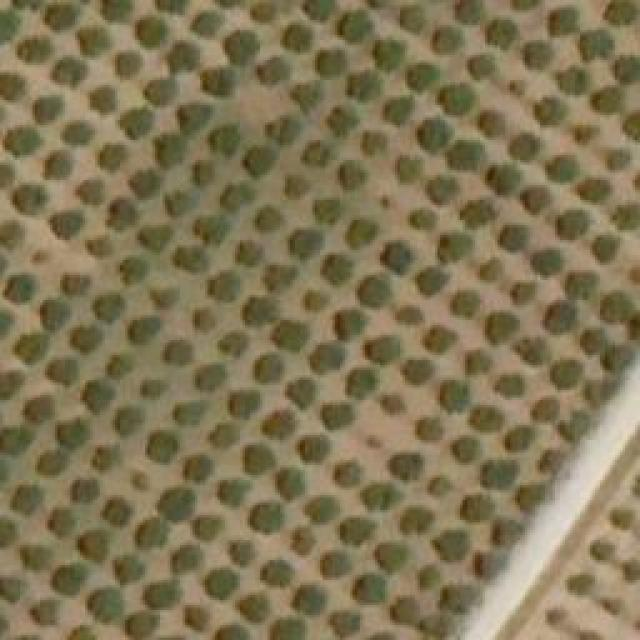Tree: (180, 105, 213, 138), (160, 488, 195, 518), (200, 68, 235, 98), (15, 333, 48, 363), (228, 30, 258, 63), (105, 200, 138, 228), (120, 110, 153, 138), (420, 118, 448, 151), (90, 590, 120, 620), (85, 380, 115, 410), (440, 235, 475, 260), (55, 563, 83, 593), (15, 485, 45, 513), (220, 480, 250, 508), (305, 495, 335, 523), (295, 585, 325, 613), (560, 410, 590, 438), (547, 303, 575, 333), (195, 215, 225, 243), (15, 185, 45, 213), (48, 0, 78, 28), (137, 15, 165, 45), (168, 42, 198, 70), (440, 82, 470, 110), (580, 30, 610, 58), (58, 420, 91, 445), (483, 460, 516, 485), (603, 295, 636, 320), (450, 143, 483, 168), (175, 245, 208, 270), (140, 225, 173, 250), (348, 73, 381, 98), (150, 432, 178, 460), (115, 405, 143, 433), (165, 337, 193, 365), (277, 320, 305, 348), (255, 502, 283, 530), (377, 542, 405, 570), (492, 162, 520, 190), (212, 272, 240, 300), (247, 147, 275, 175), (342, 12, 370, 40), (537, 97, 565, 125), (525, 40, 553, 68), (302, 288, 329, 317), (440, 588, 478, 608), (343, 518, 376, 541), (303, 140, 336, 163), (50, 213, 83, 236), (20, 38, 53, 61), (55, 58, 88, 81), (63, 120, 96, 143), (140, 520, 170, 545), (43, 300, 68, 330), (73, 325, 103, 350), (130, 318, 160, 343), (245, 298, 275, 323), (355, 575, 385, 600), (463, 495, 493, 520), (403, 508, 433, 533), (473, 405, 503, 430), (78, 28, 108, 53), (33, 98, 63, 123), (396, 303, 423, 330), (147, 583, 175, 608), (207, 570, 235, 595), (115, 558, 143, 583), (80, 532, 105, 560), (97, 293, 125, 318), (245, 445, 273, 470), (312, 345, 340, 370), (365, 485, 400, 505), (440, 532, 465, 560), (347, 368, 375, 393), (587, 378, 615, 403), (427, 328, 455, 353), (490, 315, 515, 343), (557, 213, 585, 238), (465, 200, 493, 225), (295, 233, 323, 258), (340, 160, 365, 188), (263, 268, 298, 288), (225, 183, 253, 208), (133, 170, 158, 198), (158, 137, 183, 165), (147, 78, 175, 103), (285, 25, 313, 50), (377, 43, 405, 68), (487, 20, 515, 45), (560, 68, 588, 93), (393, 453, 423, 476), (10, 128, 40, 151), (190, 13, 220, 36), (605, 0, 635, 22), (2, 428, 30, 451), (53, 507, 76, 535), (175, 400, 203, 423), (50, 360, 78, 383), (7, 275, 35, 298), (290, 380, 313, 408), (265, 413, 293, 436), (300, 438, 328, 461), (322, 553, 350, 576), (495, 520, 523, 543), (370, 338, 398, 361), (445, 380, 468, 408), (607, 348, 635, 371), (520, 340, 548, 363), (535, 250, 563, 273), (385, 242, 408, 270), (510, 135, 538, 158), (315, 198, 343, 221), (270, 120, 298, 143), (385, 98, 413, 121), (435, 28, 463, 51), (550, 10, 578, 33), (555, 360, 580, 385), (570, 270, 595, 295), (350, 220, 375, 245), (325, 255, 350, 280), (213, 128, 238, 153), (410, 63, 435, 88), (330, 108, 355, 133), (400, 5, 425, 30), (480, 110, 505, 135), (595, 88, 620, 113), (423, 615, 453, 635), (130, 613, 155, 636), (173, 548, 198, 571), (0, 578, 25, 601), (73, 478, 98, 501), (188, 455, 211, 480), (233, 393, 258, 416), (258, 355, 281, 380), (200, 365, 225, 388), (325, 405, 350, 428), (333, 610, 358, 633), (360, 280, 385, 303), (503, 225, 528, 248), (525, 188, 548, 213), (615, 208, 640, 231), (430, 178, 455, 201), (398, 155, 421, 180), (258, 208, 283, 231), (235, 240, 260, 263), (78, 180, 103, 203), (263, 58, 288, 81), (295, 83, 318, 108), (568, 570, 593, 593), (22, 548, 50, 568), (547, 158, 575, 178), (167, 193, 195, 213), (102, 0, 130, 20), (0, 10, 18, 40), (243, 595, 266, 618), (268, 560, 291, 583), (95, 445, 118, 468), (123, 258, 146, 281), (223, 335, 246, 358), (455, 438, 478, 461), (583, 330, 606, 353), (595, 235, 618, 258), (583, 178, 606, 201), (118, 53, 141, 76), (320, 53, 343, 76), (363, 133, 386, 156), (617, 57, 640, 80), (0, 372, 22, 395), (0, 74, 22, 97), (40, 452, 68, 470), (150, 287, 178, 305), (250, 2, 278, 20), (595, 595, 623, 613), (275, 620, 300, 640), (108, 355, 133, 375), (213, 425, 238, 445), (280, 470, 300, 495), (295, 528, 315, 553), (395, 598, 415, 623), (518, 485, 543, 505), (508, 428, 533, 448), (0, 223, 20, 248), (308, 0, 333, 20), (590, 540, 615, 560), (185, 605, 205, 628), (230, 540, 250, 563), (28, 400, 51, 420), (108, 500, 128, 523), (338, 463, 361, 483), (478, 555, 501, 575), (543, 450, 566, 470), (408, 360, 428, 383), (418, 418, 441, 438), (498, 375, 521, 395), (468, 350, 488, 373), (455, 293, 478, 313), (423, 270, 443, 293), (45, 155, 68, 175), (93, 88, 113, 111), (470, 55, 493, 75), (458, 0, 481, 20), (610, 508, 633, 528), (215, 625, 245, 640), (65, 275, 90, 293), (88, 237, 113, 255), (0, 517, 15, 545), (625, 110, 640, 138), (288, 177, 311, 195), (35, 603, 55, 623), (200, 518, 220, 538), (70, 625, 95, 640), (380, 395, 400, 413), (535, 400, 555, 418), (342, 313, 360, 333), (518, 282, 538, 300), (483, 260, 503, 278), (195, 163, 213, 183), (102, 148, 120, 168), (545, 607, 565, 625), (413, 210, 436, 225), (420, 567, 438, 585), (622, 562, 640, 580), (145, 380, 165, 395), (198, 310, 213, 328), (610, 153, 628, 168), (575, 125, 593, 140), (433, 478, 448, 493)
